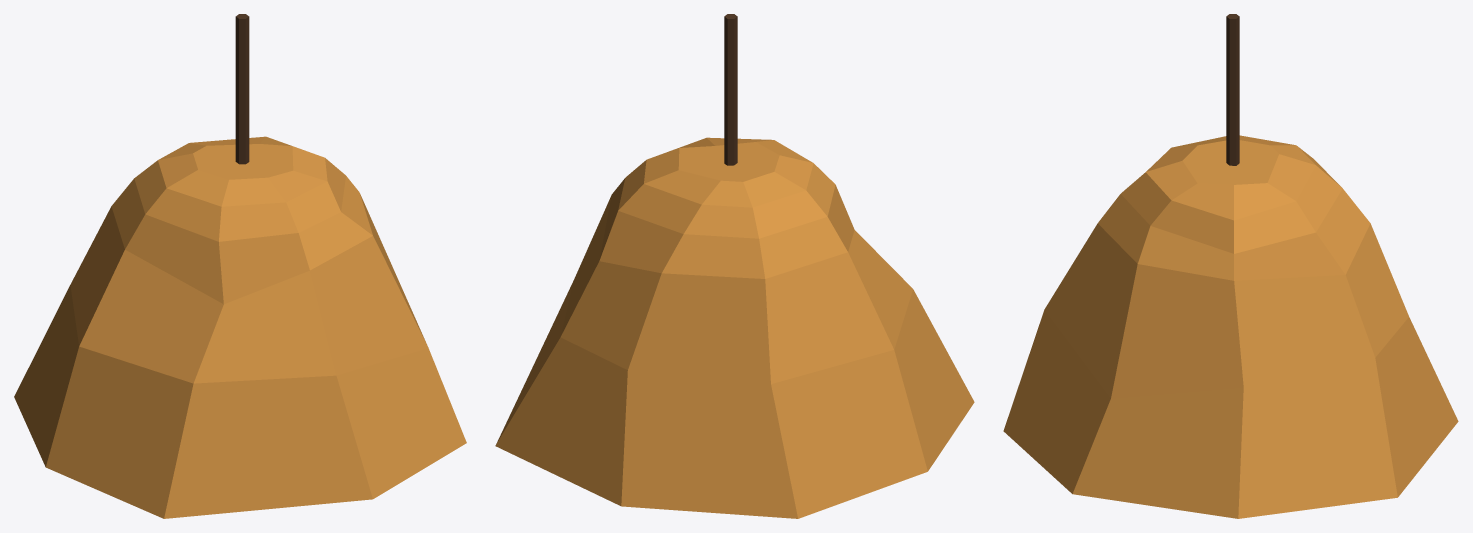
File: Hayrick_1.fbx
3 renders of one model, left to right at view 1: azimuth 30°, elevation 25°; view 2: azimuth 150°, elevation 25°; view 3: azimuth 270°, elevation 25°, orthographic.
Parts seen in each view (by area): view 1: Hayrick_1; view 2: Hayrick_1; view 3: Hayrick_1.
Part boxes in pixels (x1,y1,x2,y2): Hayrick_1: (14, 14, 466, 518); Hayrick_1: (495, 14, 974, 518); Hayrick_1: (1003, 14, 1458, 518).
Size of the model in its own units: 202 by 199 by 202.
